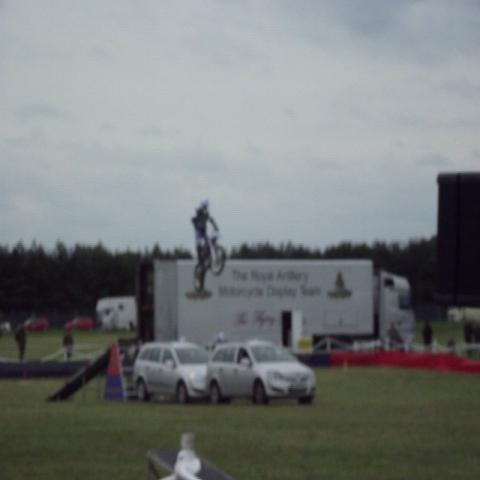car: (207, 342, 314, 404), (135, 340, 212, 403), (117, 342, 141, 398), (306, 338, 356, 353), (18, 318, 49, 333), (64, 317, 94, 330)
motorcycle: (191, 226, 227, 296)
truck: (153, 258, 416, 347), (65, 316, 92, 330)
